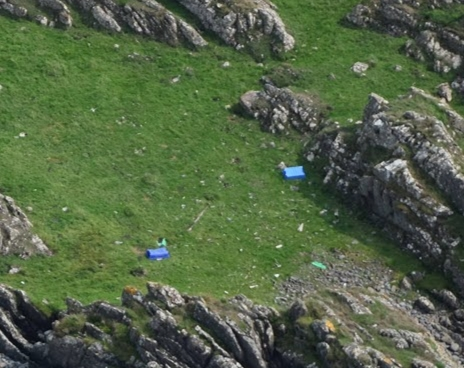white_in_green: (132, 229, 186, 275), (265, 148, 319, 194), (297, 244, 338, 281)
